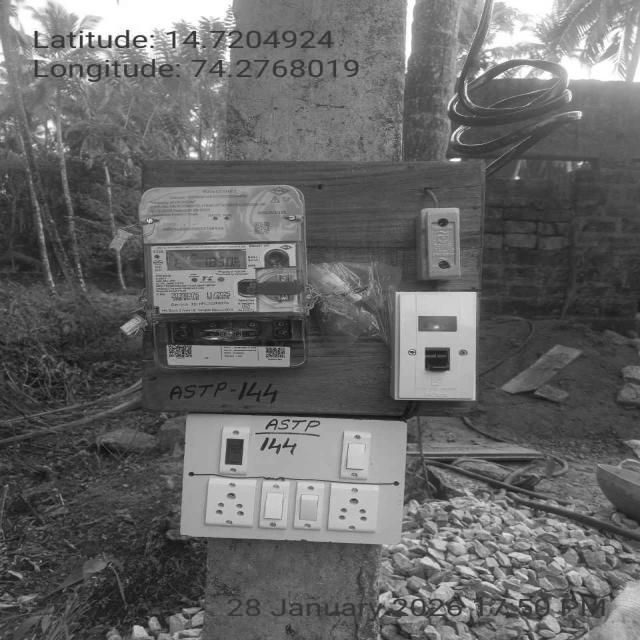meter: (140, 183, 311, 318)
